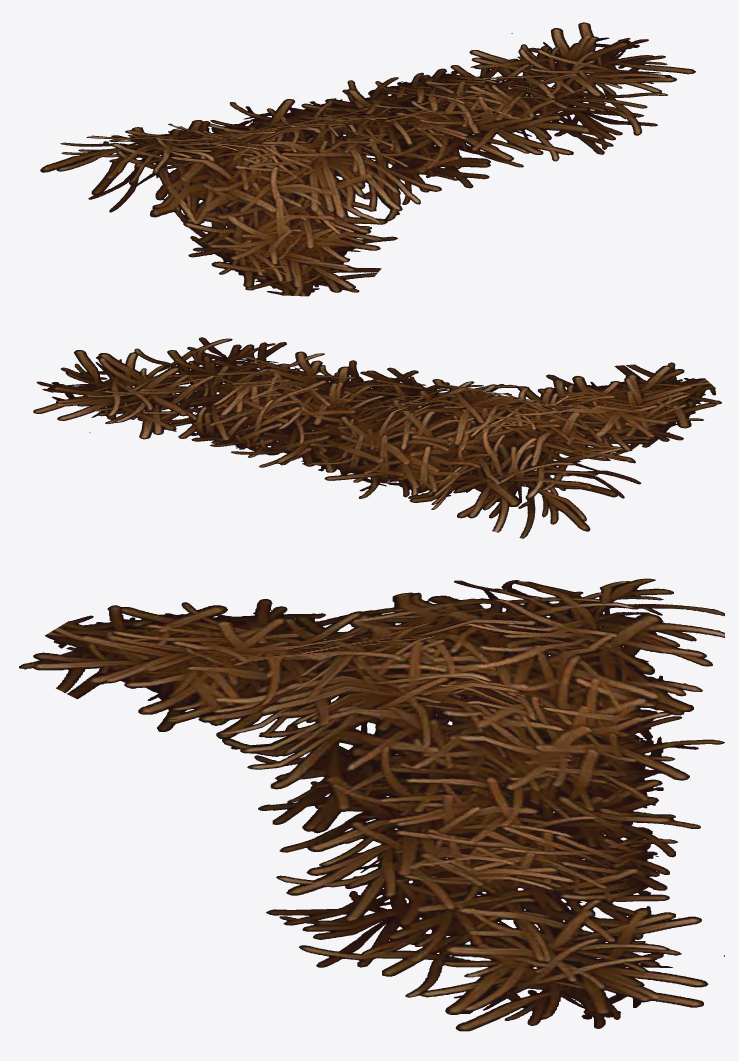
3 renders of one model, top to bottom at view 1: azimuth 30°, elevation 25°; view 2: azimuth 150°, elevation 25°; view 3: azimuth 270°, elevation 25°, orthographic. The views are drawn at different scales.
Parts seen in each view (by area): view 1: SM_Hay_Pile_02_LOD0; view 2: SM_Hay_Pile_02_LOD0; view 3: SM_Hay_Pile_02_LOD0.
Part boxes in pixels (x1,y1,x2,y2): SM_Hay_Pile_02_LOD0: [40, 22, 695, 296]; SM_Hay_Pile_02_LOD0: [33, 337, 721, 538]; SM_Hay_Pile_02_LOD0: [19, 578, 724, 1031].
Bounding box in the file's own units: 2.19 × 0.1022 × 1.41.
1 material, 1 textured.
